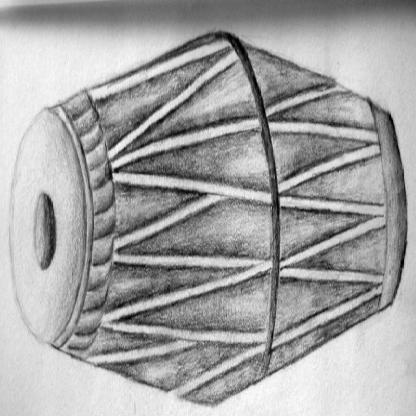Mridangam: (9, 27, 411, 401)
